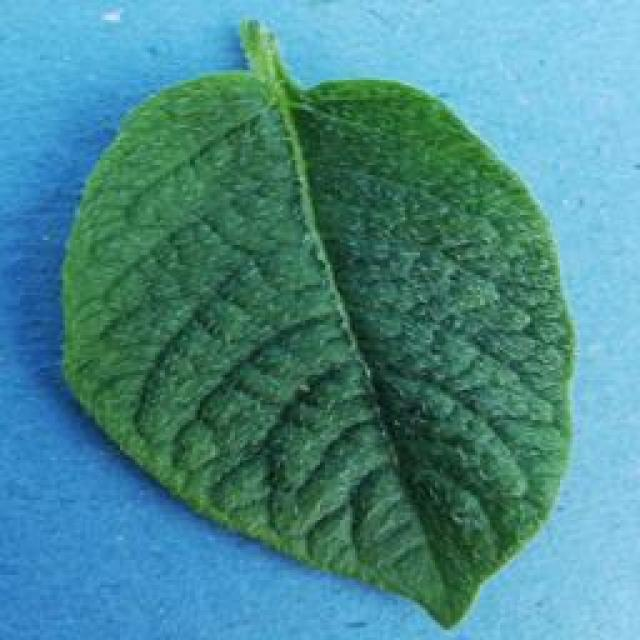Potato_Healthy: (58, 22, 570, 630)
